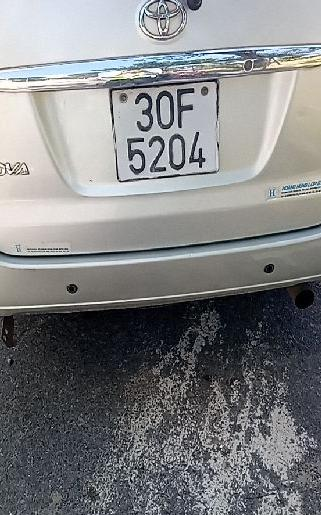Plate-iWeP: (107, 78, 225, 183)
